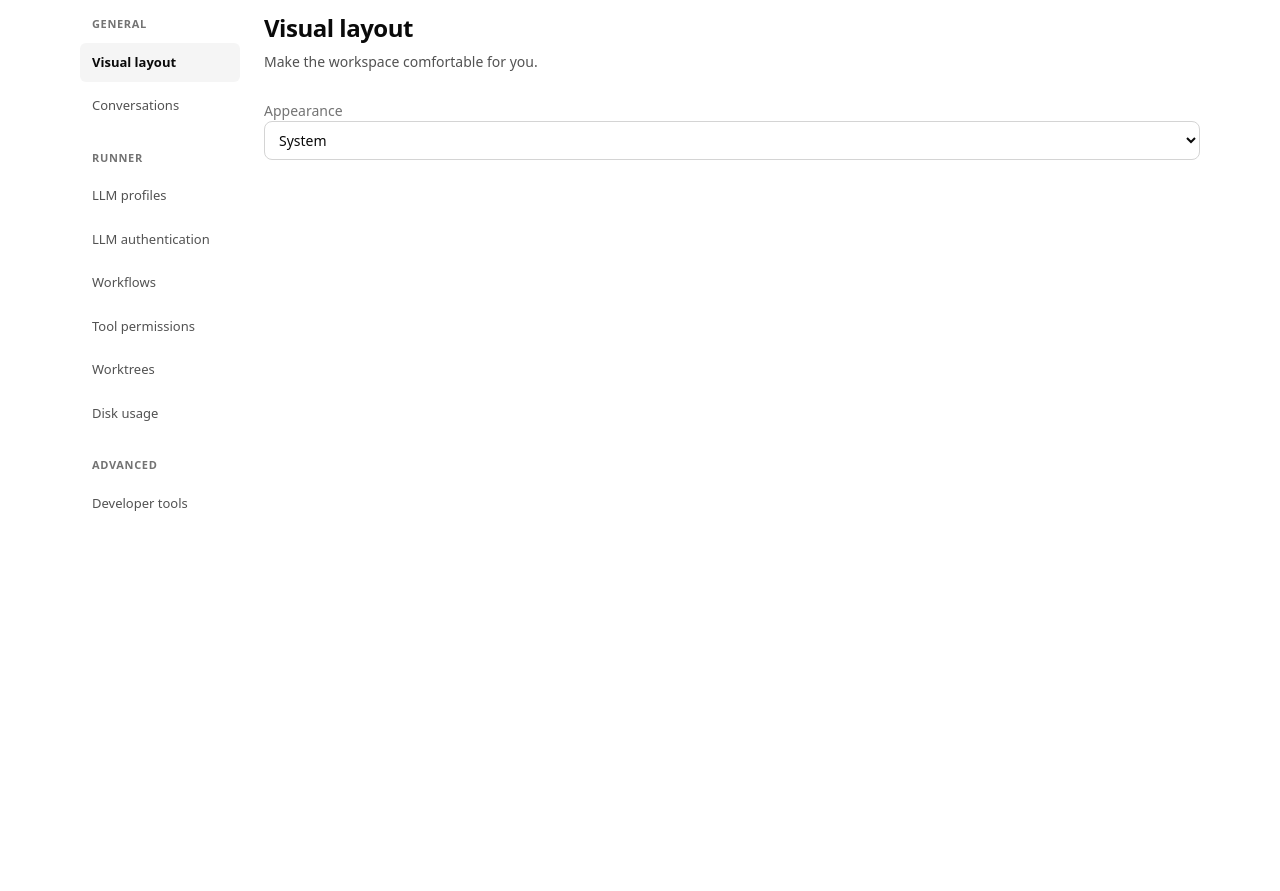
Test: credential profile controls still switch, add, and delete profiles
Click the button "LLM authentication": click(160, 239) left=80, top=220, right=240, bottom=259
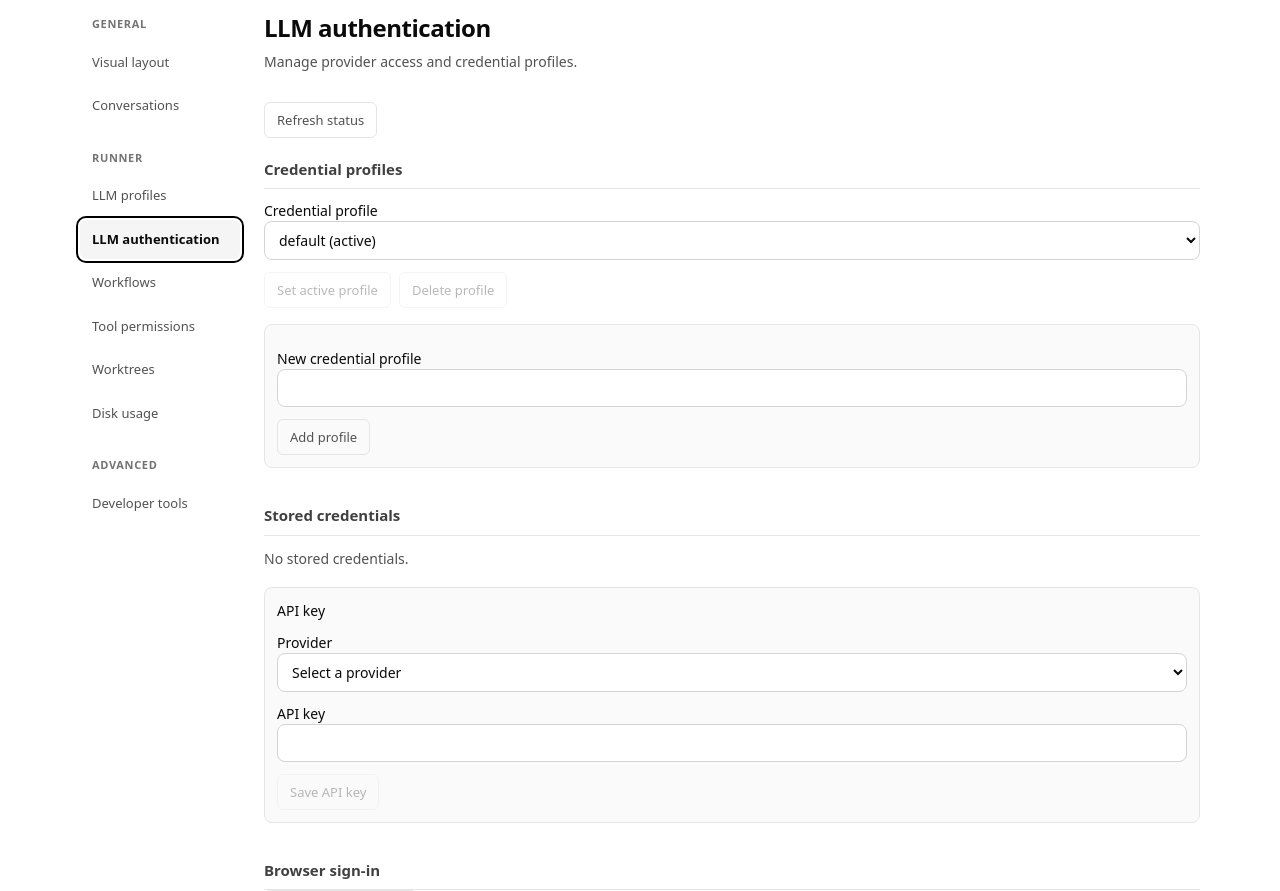
Result: the dropdown labelled "Credential profile" shows "default (active)"
Select "work" in the dropdown labelled "Credential profile": (732, 241) left=264, top=221, right=1200, bottom=260
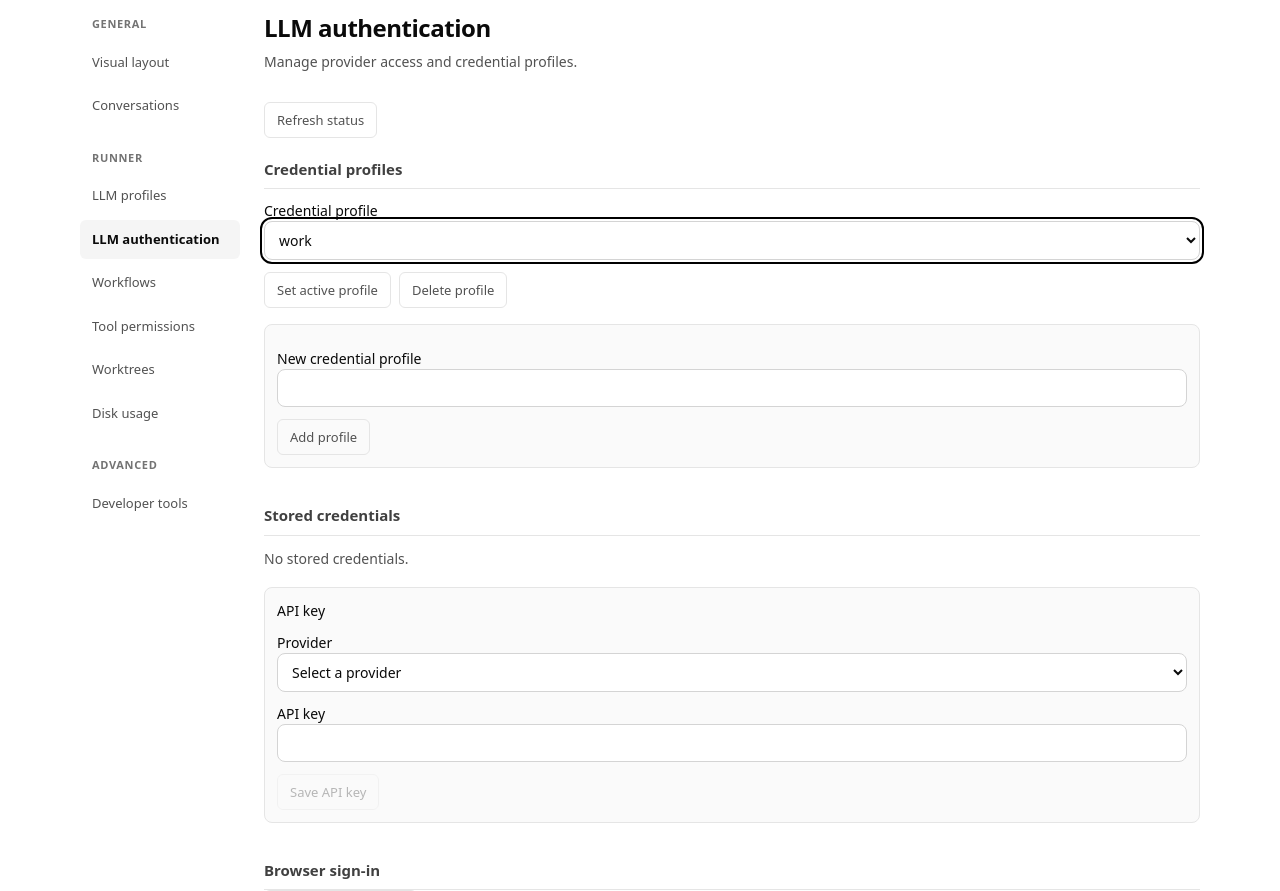
Click the button "Set active profile": click(327, 290) left=264, top=272, right=391, bottom=308
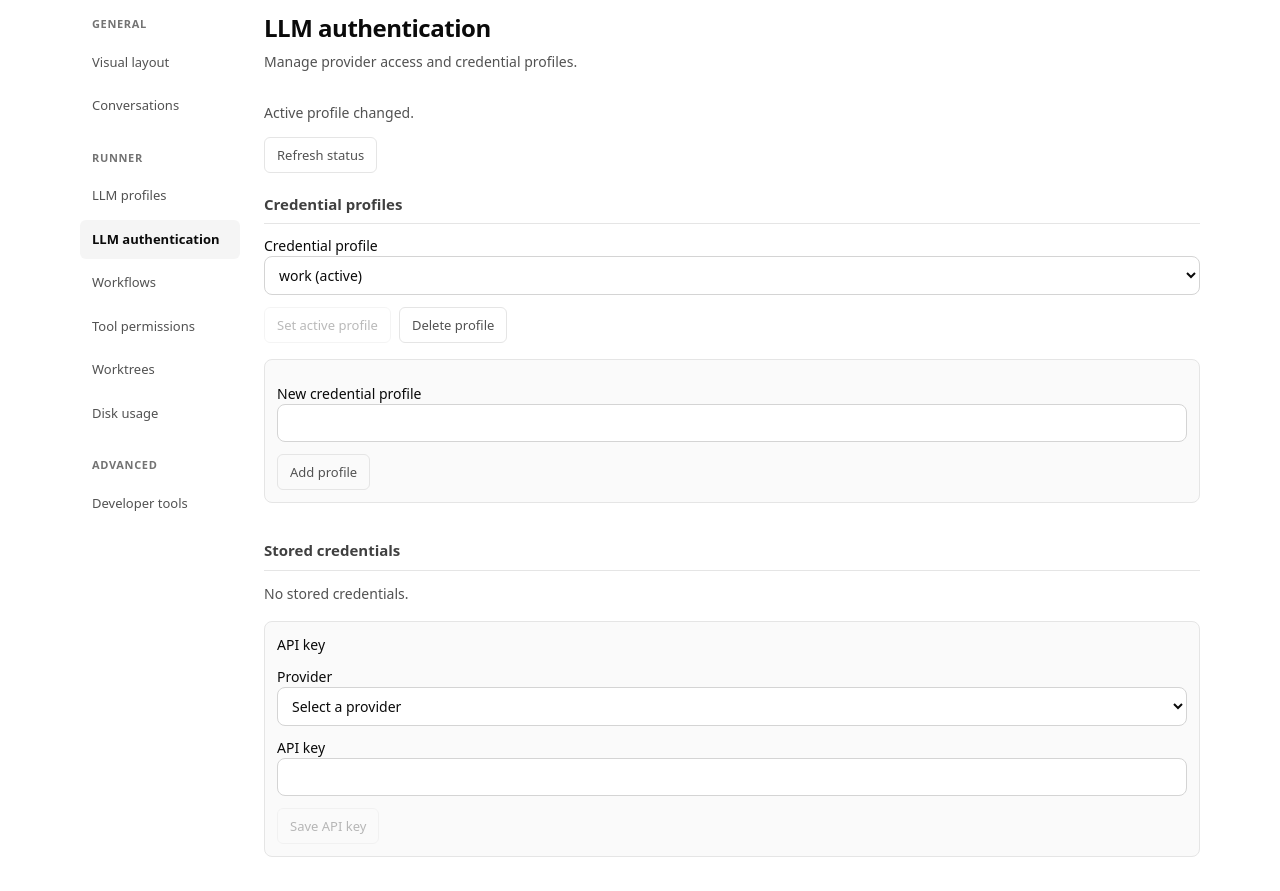
Result: the text "Active profile changed." is shown at left=264, top=103, right=414, bottom=122
In the field labelled "New credential profile": (732, 423) left=277, top=404, right=1187, bottom=442, type "personal"
Click the button "Add profile": click(324, 472) left=277, top=454, right=370, bottom=490
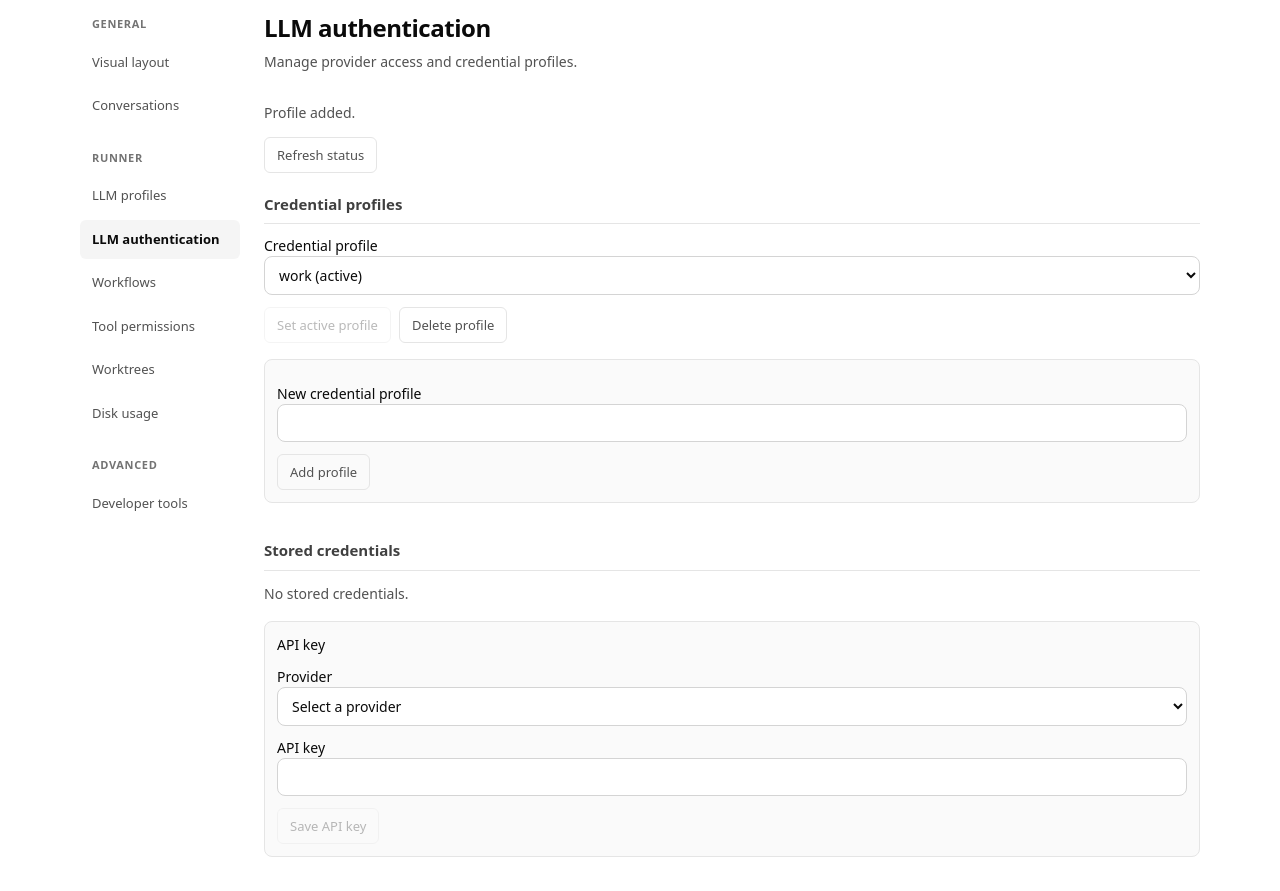
Result: the text "Profile added." is shown at left=264, top=103, right=355, bottom=122
Select "personal" in the dropdown labelled "Credential profile": (732, 276) left=264, top=256, right=1200, bottom=295
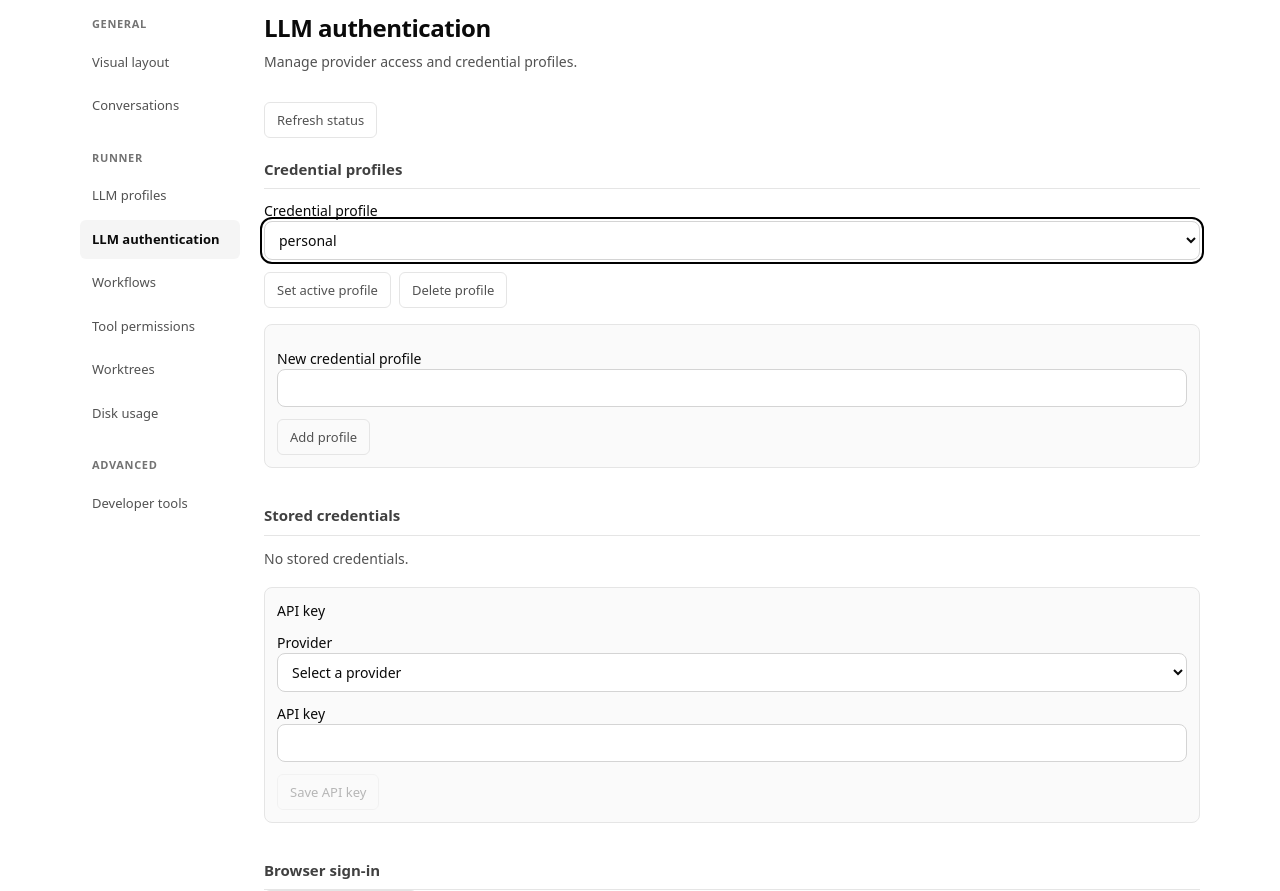
Click the button "Delete profile": click(453, 290) left=399, top=272, right=507, bottom=308
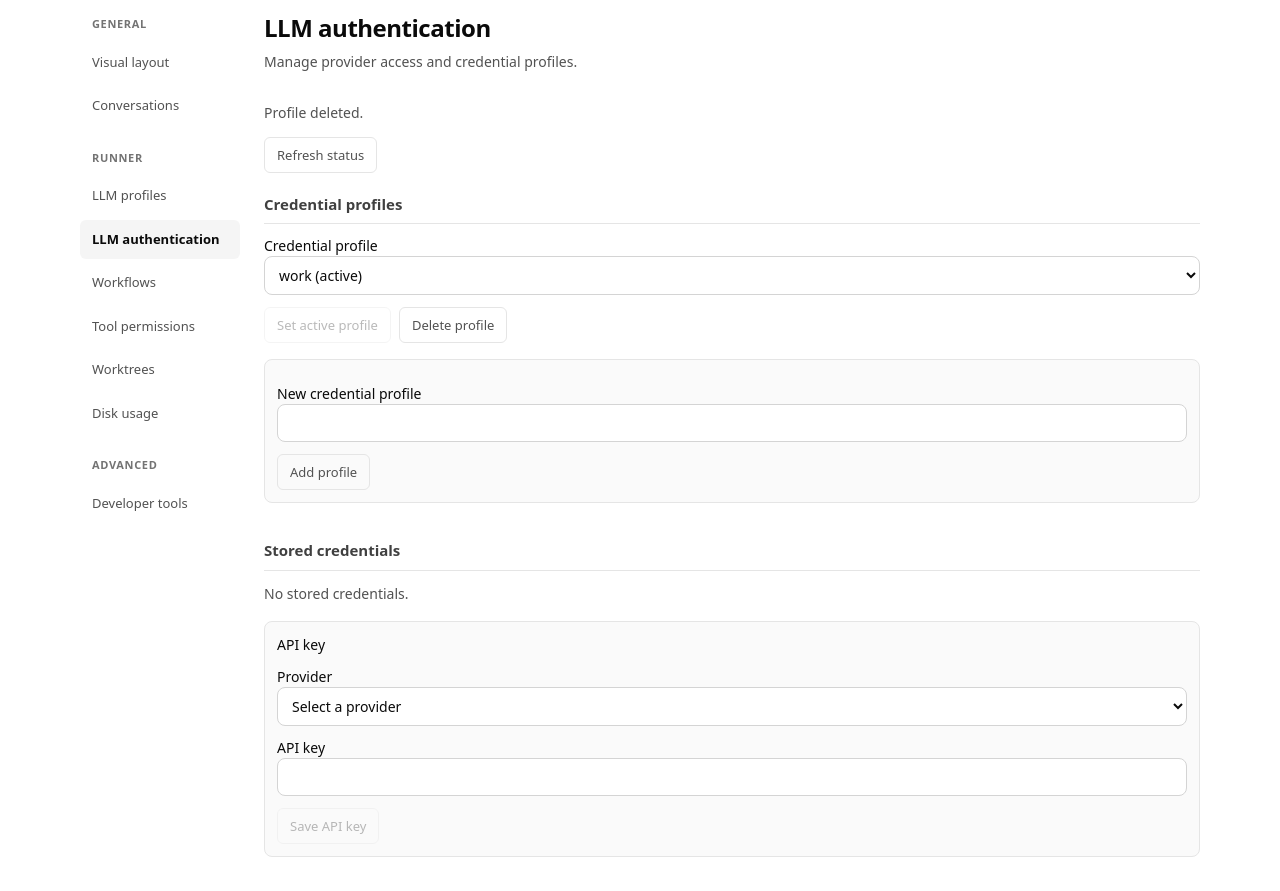
Result: the text "Profile deleted." is shown at left=264, top=103, right=363, bottom=122
